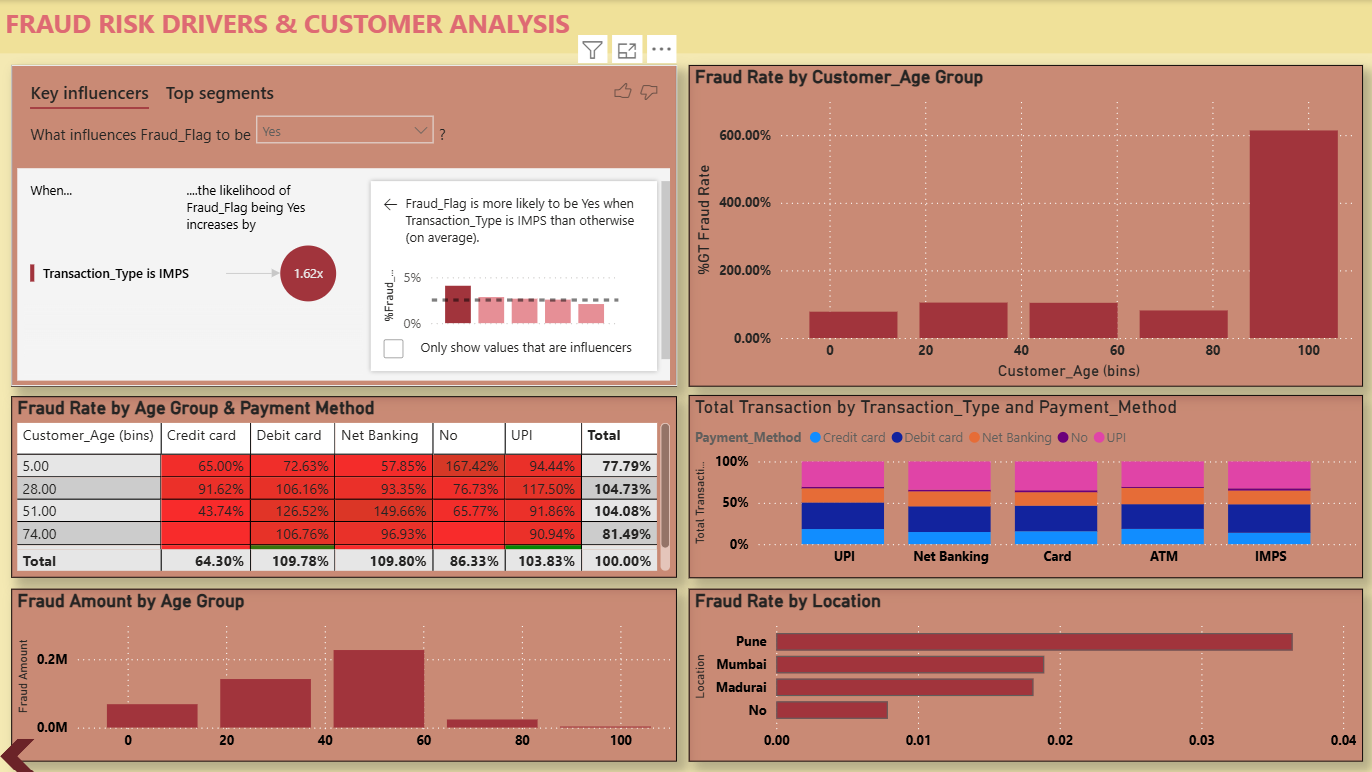

What the dashboard file says about the page in this screenshot:
{"tool":"powerbi","page":{"name":"Fraud Risk Drivers and Customer Analysis","canvas":[1280,720],"ordinal":3},"visuals":[{"type":"textbox","box":[0,0,1280.3,49.4],"z":0},{"type":"keyDriversVisual","fields":{"Target":["Fraud Data.Fraud_Flag"],"ExplainBy":["Fraud Data.Customer_Age","Fraud Data.Transaction_Type","Fraud Data.Payment_Method","Fraud Data.Location","Fraud Data.Amount"]},"box":[11,60.4,618.9,299.1],"z":1000},{"type":"clusteredColumnChart","title":"Fraud Rate by Customer_Age  Group","fields":{"Category":["Fraud Data.Customer_Age (bins)"],"Y":["Fraud Data.Fraud Rate"]},"box":[640.8,60.4,627.1,299.1],"z":2000},{"type":"pivotTable","title":"Fraud Rate by Age Group & Payment Method","fields":{"Rows":["Fraud Data.Customer_Age (bins)"],"Columns":["Fraud Data.Payment_Method"],"Values":["Fraud Data.Fraud Rate"]},"box":[11,369.1,618.9,168.8],"z":3000},{"type":"hundredPercentStackedColumnChart","fields":{"Category":["Fraud Data.Transaction_Type"],"Y":["Fraud Data.Total Transaction"],"Series":["Fraud Data.Payment_Method"]},"box":[640.8,367.8,627.1,170.2],"z":4000},{"type":"clusteredColumnChart","title":"Fraud Amount by Age Group","fields":{"Category":["Fraud Data.Customer_Age (bins)"],"Y":["Fraud Data.Fraud Amount"]},"box":[11,547.5,618.9,160.5],"z":5000},{"type":"barChart","fields":{"Category":["Fraud Data.Location"],"Y":["Fraud Data.Fraud Rate"]},"box":[640.8,547.5,627.1,160.5],"z":6000}]}

Visuals, with their boxes in screenshot pixels (x1, y1, x2, y2), scaled from the page's 1280x720 canvas onto the 1372x772 screenshot:
textbox: (x1=0, y1=0, x2=1371, y2=53)
keyDriversVisual - Fraud Data.Fraud_Flag x Fraud Data.Customer_Age: (x1=12, y1=65, x2=675, y2=385)
"Fraud Rate by Customer_Age  Group" clusteredColumnChart: (x1=687, y1=65, x2=1359, y2=385)
"Fraud Rate by Age Group & Payment Method" pivotTable: (x1=12, y1=396, x2=675, y2=577)
hundredPercentStackedColumnChart - Fraud Data.Transaction_Type x Fraud Data.Total Transaction: (x1=687, y1=394, x2=1359, y2=577)
"Fraud Amount by Age Group" clusteredColumnChart: (x1=12, y1=587, x2=675, y2=759)
barChart - Fraud Data.Location x Fraud Data.Fraud Rate: (x1=687, y1=587, x2=1359, y2=759)
